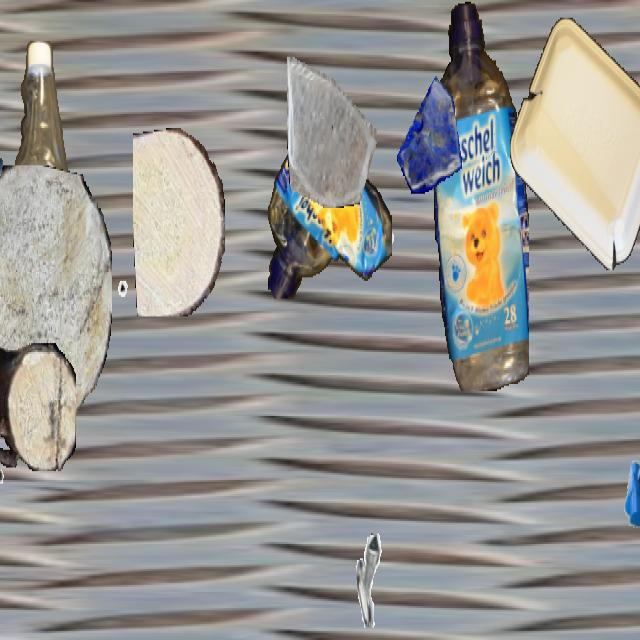glass: (287, 48, 377, 208), (396, 75, 462, 192)
metal: (457, 174, 517, 281), (356, 532, 410, 628), (606, 438, 640, 540), (358, 178, 398, 249), (114, 278, 154, 348), (0, 91, 18, 190), (0, 453, 12, 535)
plastic: (434, 2, 528, 389), (510, 18, 640, 270), (0, 41, 76, 393), (266, 137, 392, 297)
wood: (0, 166, 111, 436), (133, 128, 225, 316), (0, 343, 76, 471)
